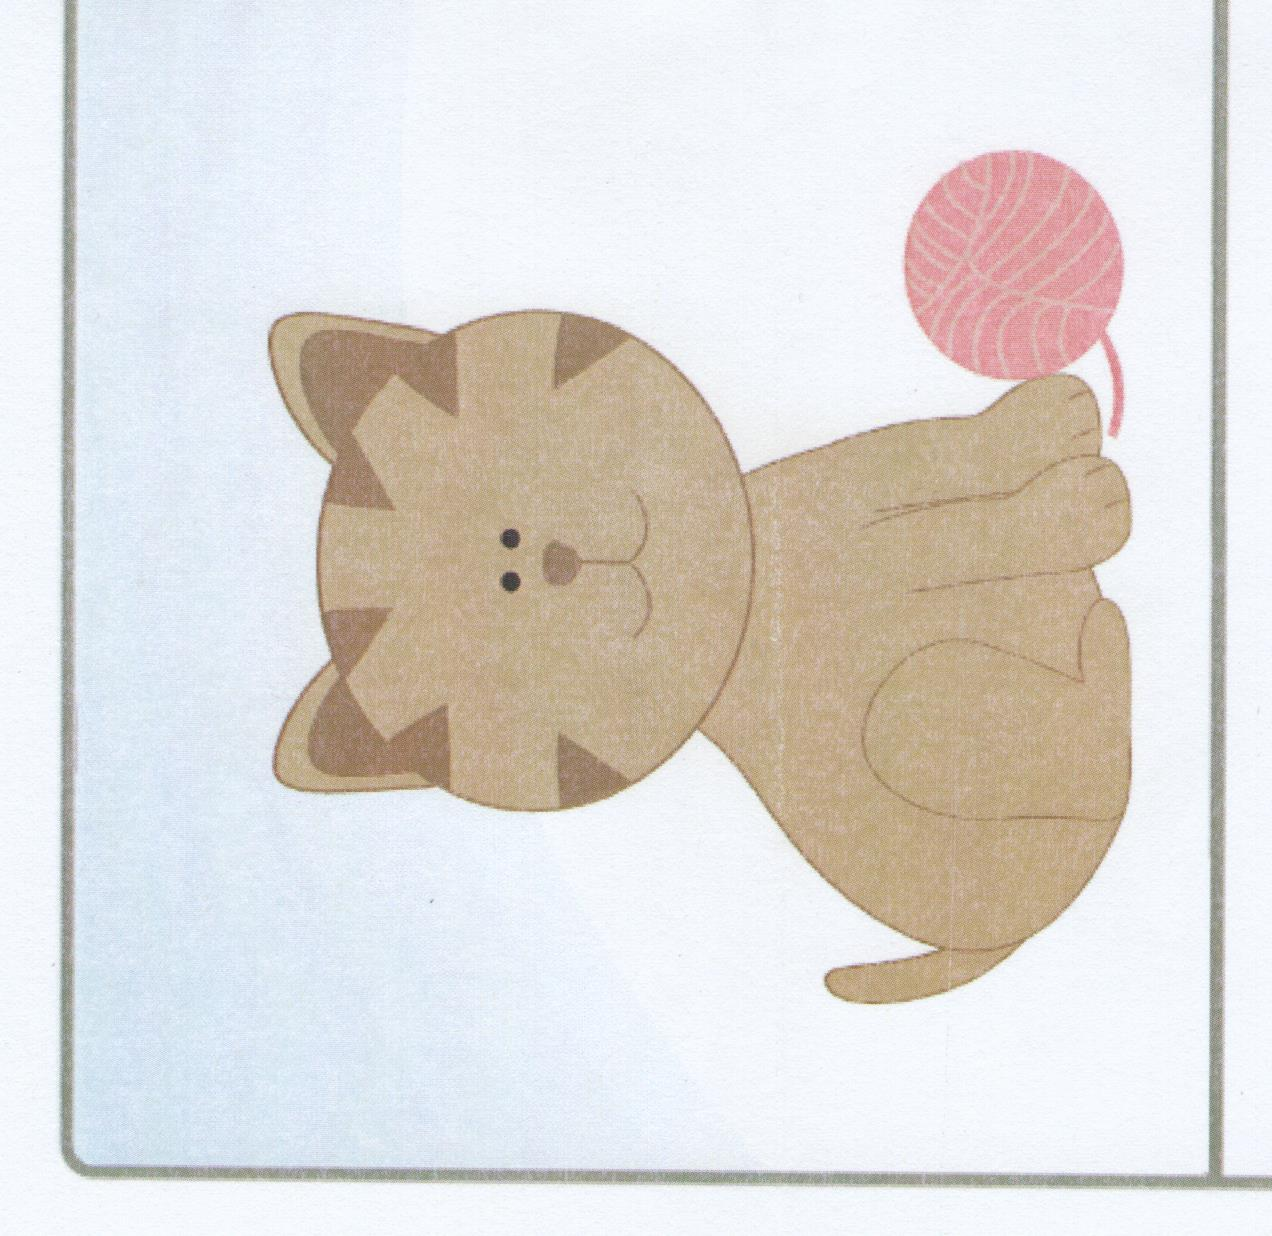gatto: (116, 3, 1245, 1147)
